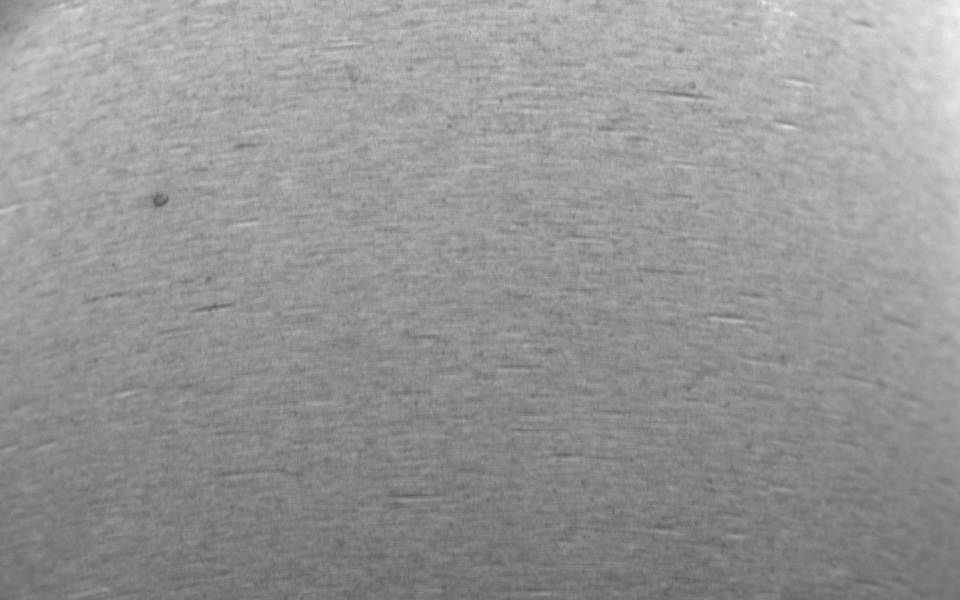micro-step: (78, 118, 238, 278)
